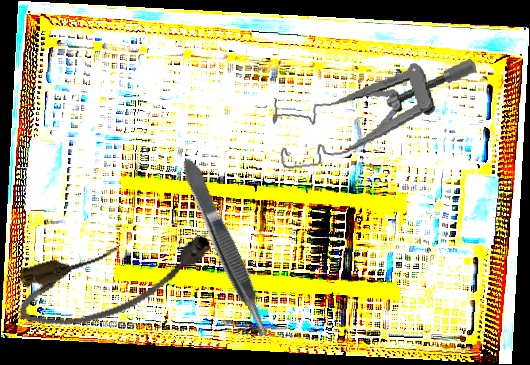Cannula: (9, 221, 223, 339)
Speculum: (267, 55, 486, 172)
Tissue Forceps: (176, 153, 277, 345)
